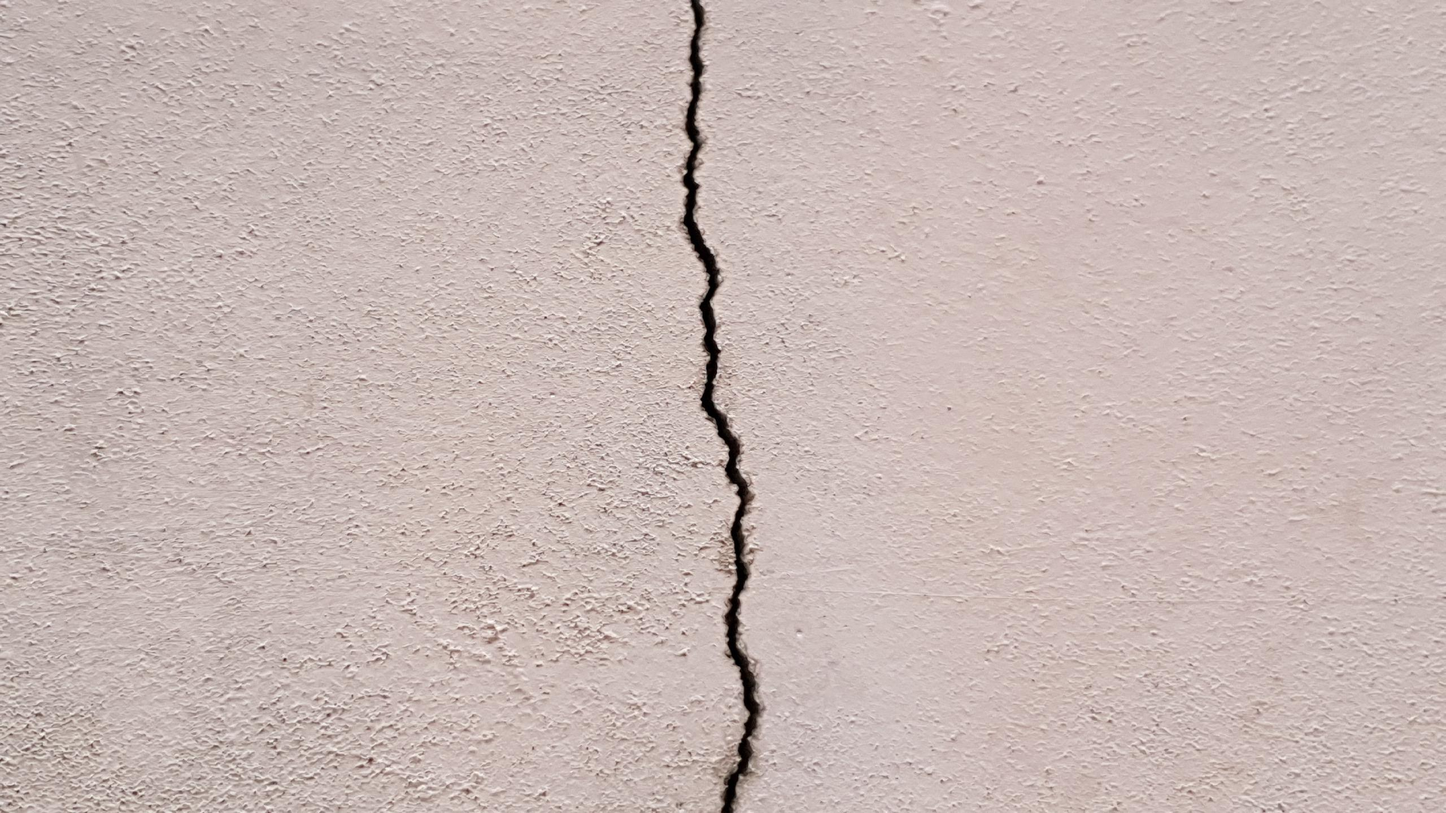crack: (681, 0, 763, 810)
